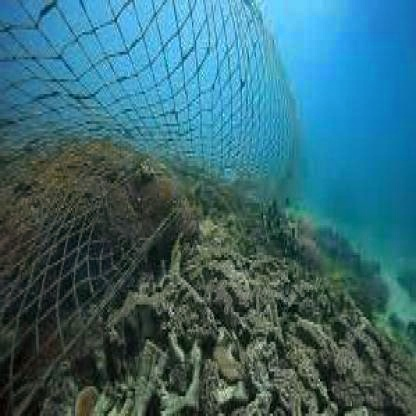net: (1, 3, 272, 411)
